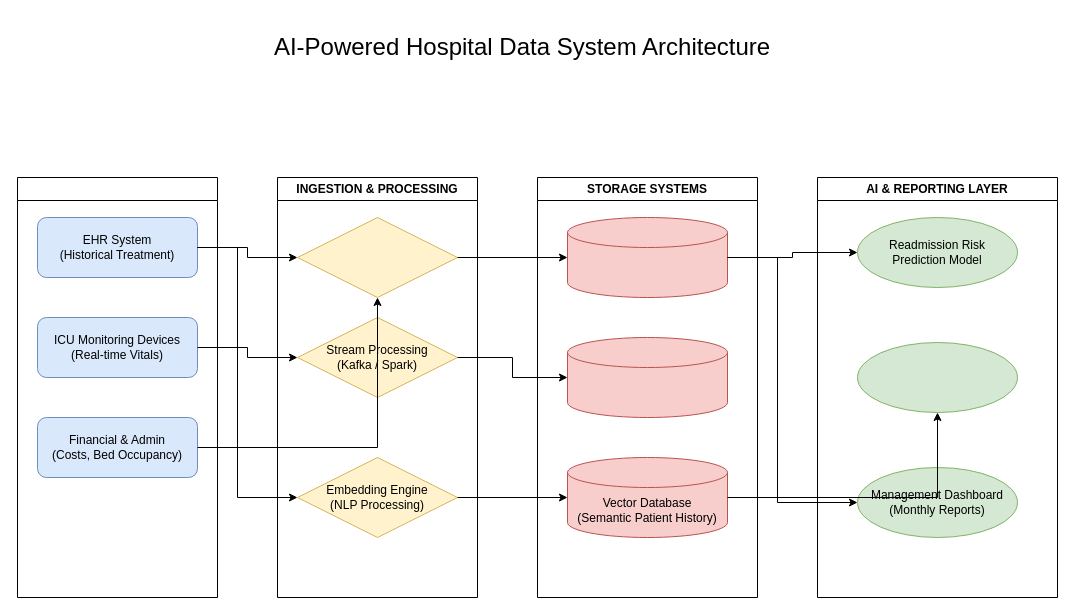
The diagram is 1075 pixels wide and 615 high, and some of its shapes have lost their labels. The shapes that lost their labels are listed below. From the top down, each one's box as (x1, y1, x2, y2) in pixels, then its label:
(296, 216, 458, 298): Batch ETL (Cleaning & Structuring)
(566, 216, 728, 298): Data Warehouse (Structured Data for Reporting)
(16, 176, 218, 598): DATA SOURCES
(566, 336, 728, 418): Data Lake (Raw Vitals & Logs)
(856, 342, 1018, 412): LLM Interface (Plain English Queries)
